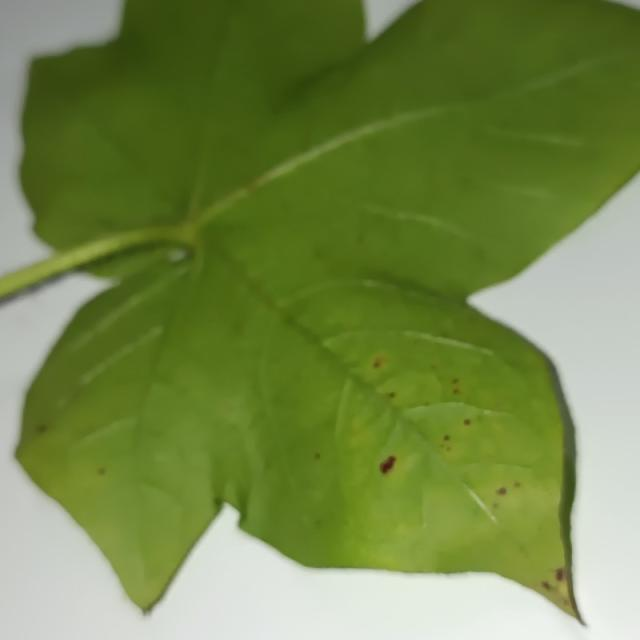Bacterial_Blight: (542, 570, 573, 609), (487, 480, 522, 514), (375, 450, 403, 483), (440, 436, 465, 461), (369, 352, 391, 371), (168, 246, 191, 264), (471, 246, 488, 262), (313, 246, 329, 262), (450, 378, 461, 395), (440, 438, 453, 451), (355, 232, 367, 246), (517, 543, 528, 554), (36, 423, 47, 433), (556, 568, 564, 581), (541, 580, 551, 590), (497, 486, 507, 495), (97, 467, 106, 476), (314, 452, 322, 460), (463, 418, 471, 426), (373, 360, 380, 368), (444, 434, 451, 442), (314, 519, 322, 526), (430, 364, 438, 371), (452, 377, 459, 384), (514, 481, 521, 488), (388, 392, 396, 398), (493, 503, 499, 510)
Cotton: (0, 0, 639, 618)
